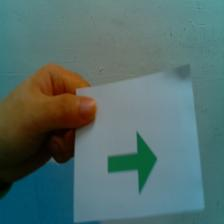right: (106, 130, 158, 196)
